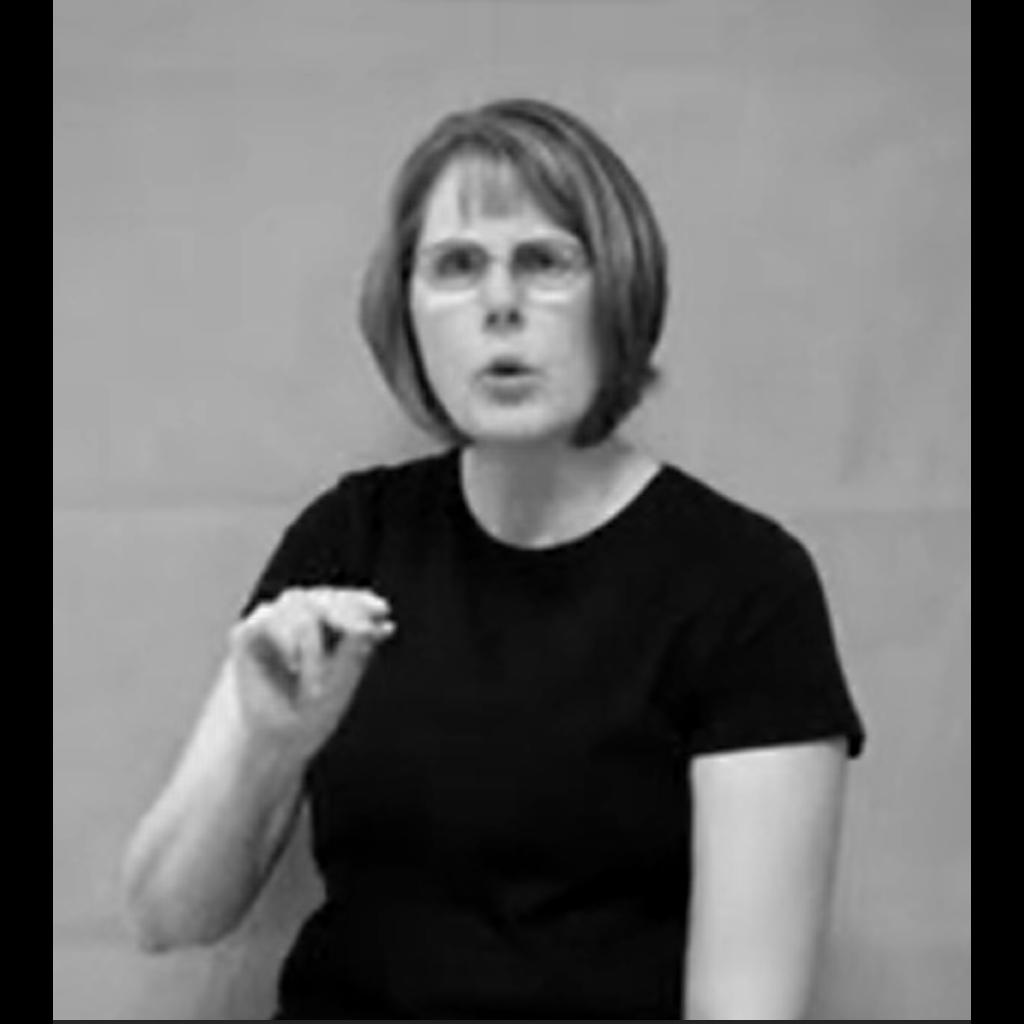no: (233, 586, 397, 746)
